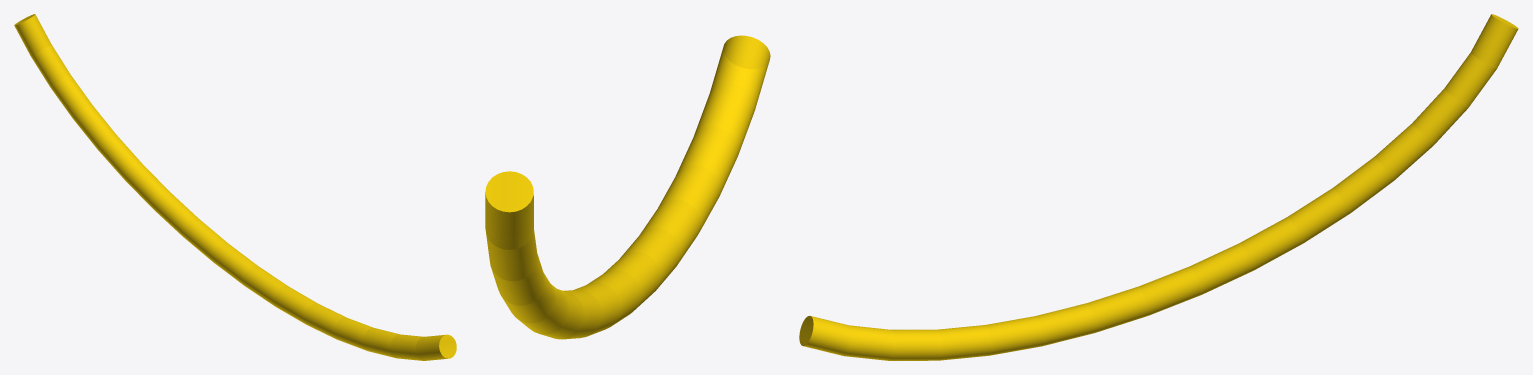
The model's file is Event_421364160_track_58.fbx.
3 renders of one model, left to right at view 1: azimuth 30°, elevation 25°; view 2: azimuth 150°, elevation 25°; view 3: azimuth 270°, elevation 25°, orthographic. The views are drawn at different scales.
Parts seen in each view (by area): view 1: Model; view 2: Model; view 3: Model.
Boxes of the visible parts, x1=… form: Model: x1=14, y1=14, x2=456, y2=360; Model: x1=485, y1=35, x2=770, y2=339; Model: x1=799, y1=14, x2=1518, y2=360.
Bounding box in the file's own units: 0.3289 × 0.3779 × 0.9219.
